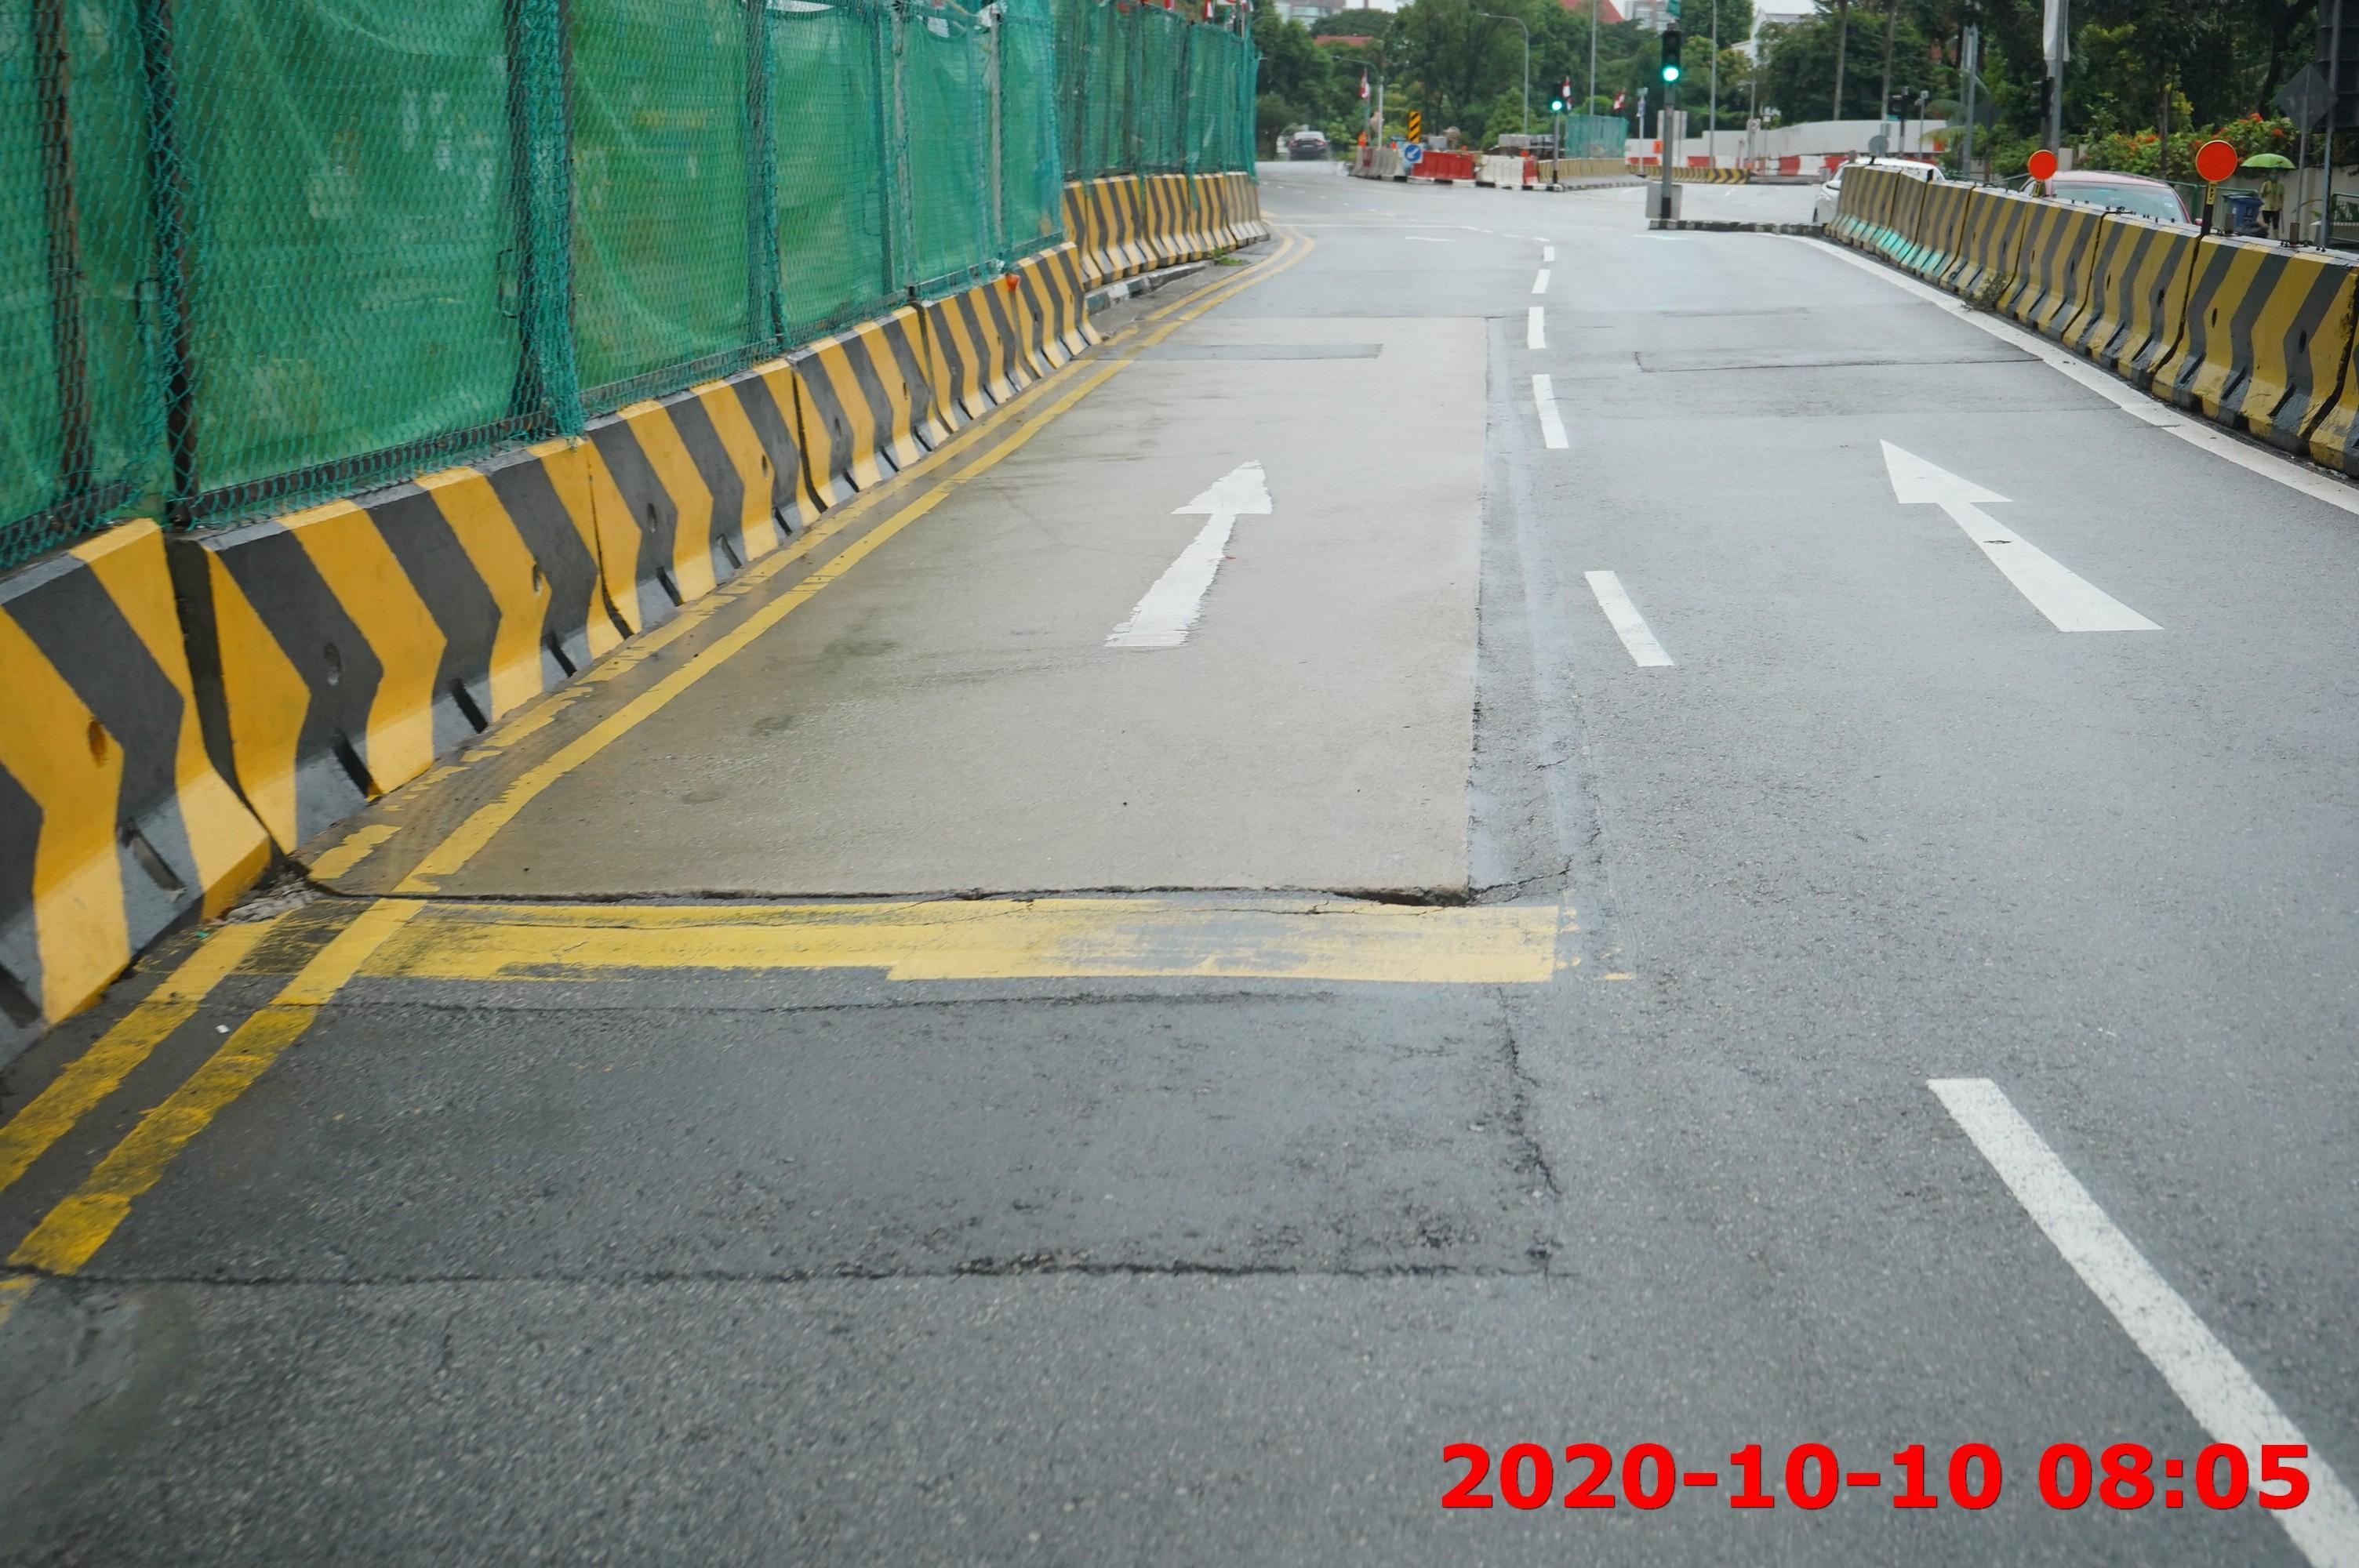rigid pavement crack: (1227, 865, 1519, 926)
